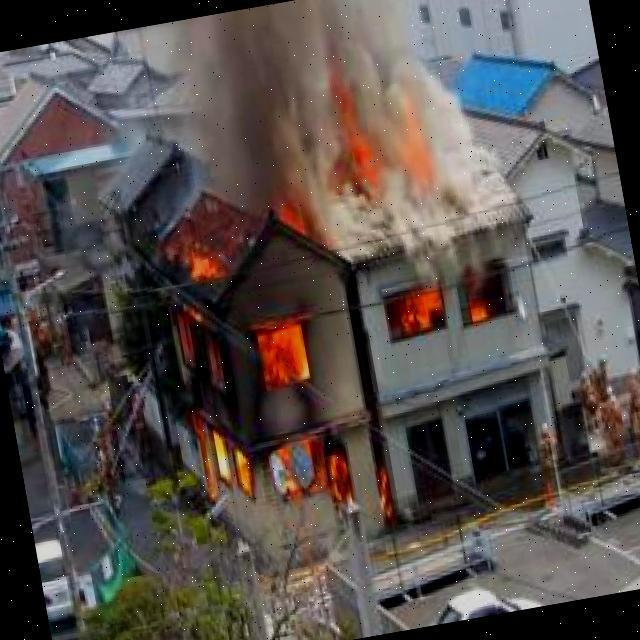Fire: (146, 207, 363, 544), (315, 90, 438, 202), (389, 268, 514, 345)
